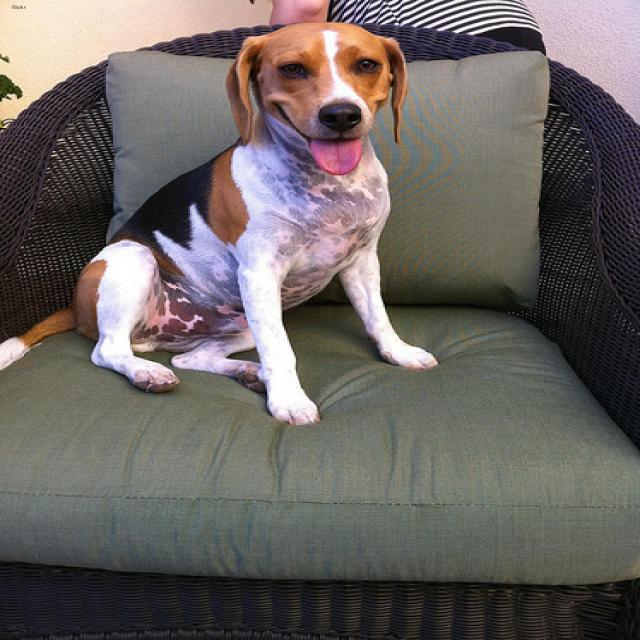dog-beagle: (2, 9, 445, 431)
